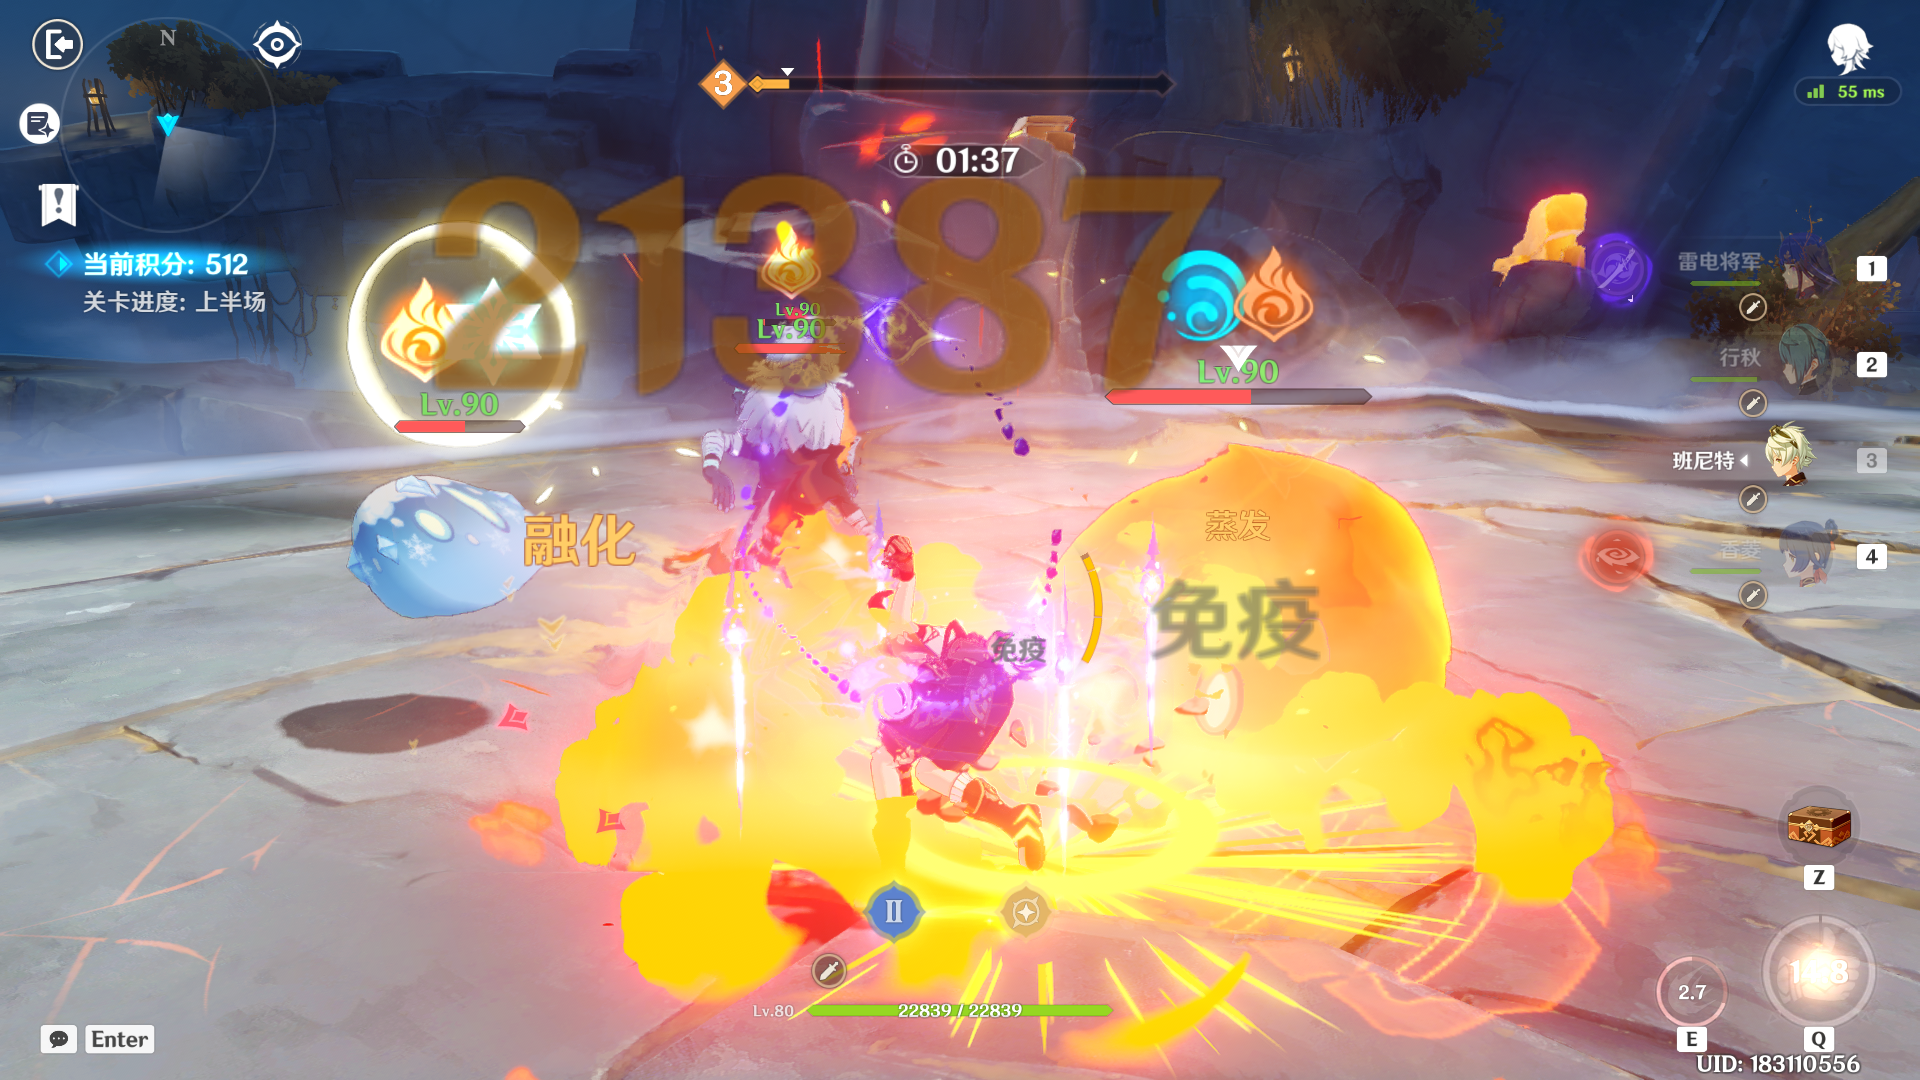character: (808, 582, 1073, 887)
hili: (686, 338, 905, 659)
slime: (1000, 389, 1484, 796), (323, 459, 549, 638)
